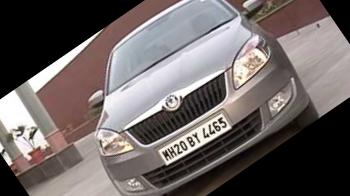plate: (142, 87, 253, 186)
